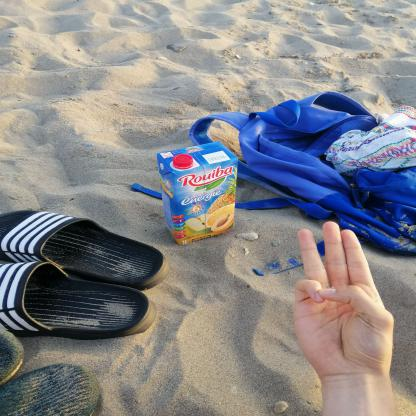THA: (277, 211, 407, 385)
